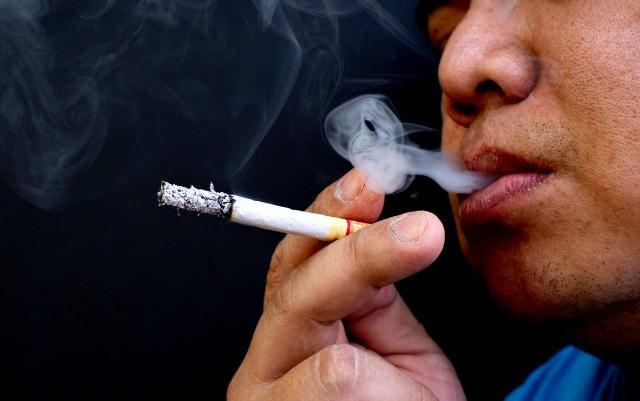Smoking: (159, 180, 411, 260)
